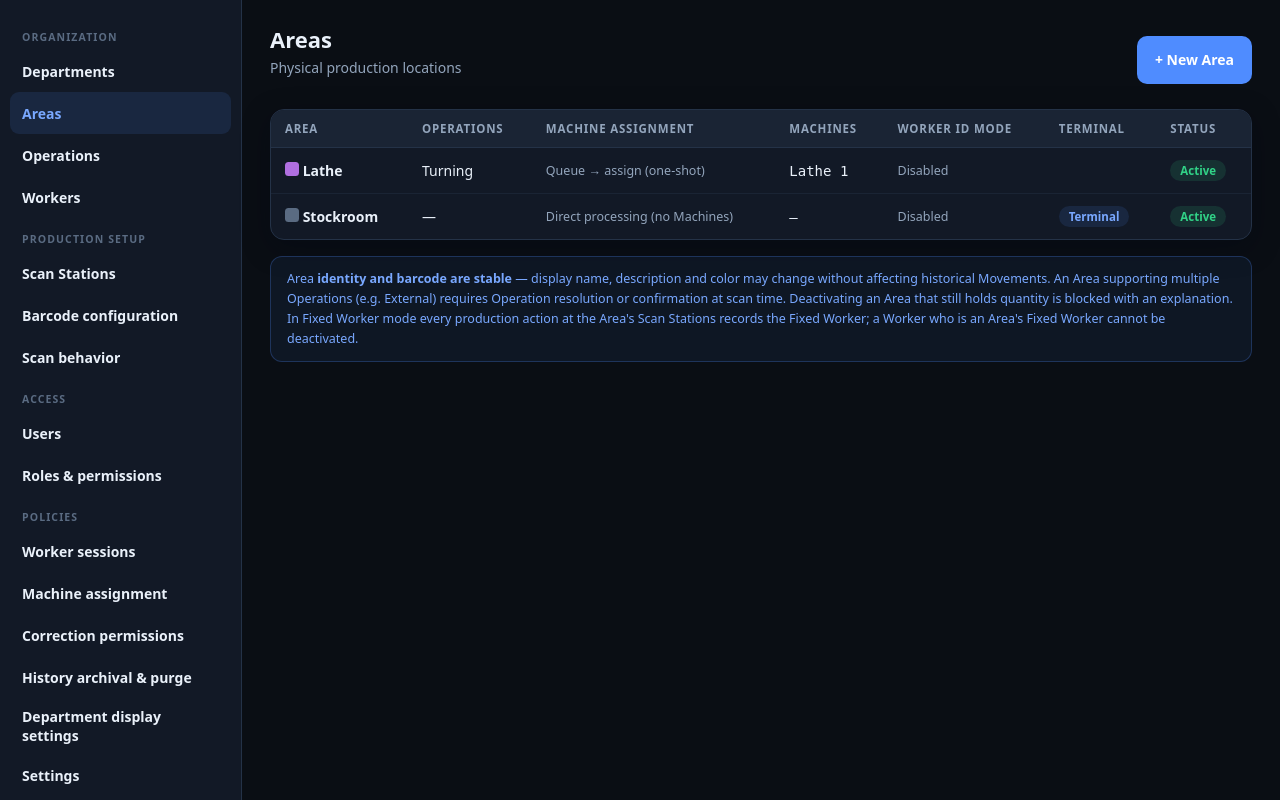
Test: editing an Area shows its stable identity and saves through the API
This screenshot has width=1280, height=800.
Click the button with aria-label "Edit Lathe".
click(340, 170)  # box top-left (285, 161), bottom-right (394, 180)
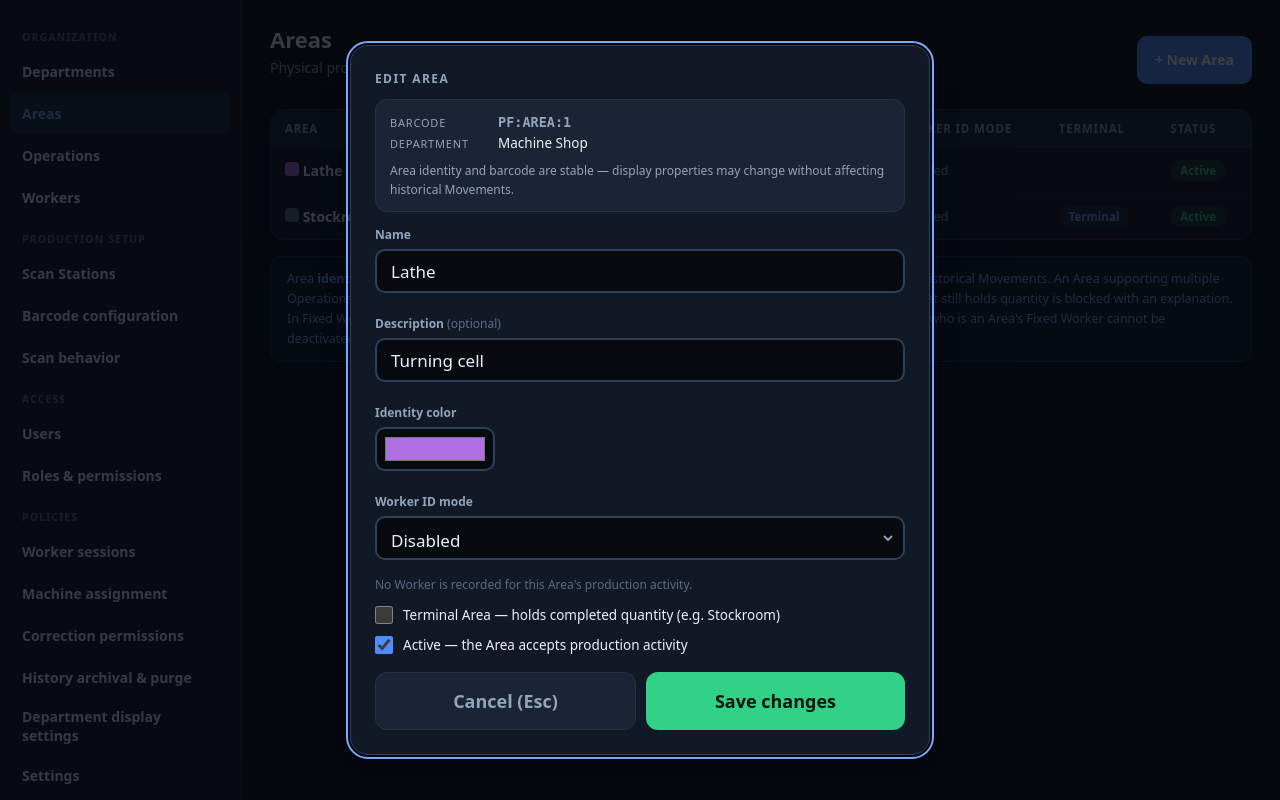
Expected: the dialog "Edit Area" shows "PF:AREA:1", top-left (498, 114), bottom-right (571, 130)
Expected: the dialog "Edit Area" shows "Area identity and barcode are stable", top-left (390, 162), bottom-right (884, 198)
Replace the text in the field labelled "Name" with "Lathe Cell" at (640, 271), box top-left (375, 249), bottom-right (905, 293)
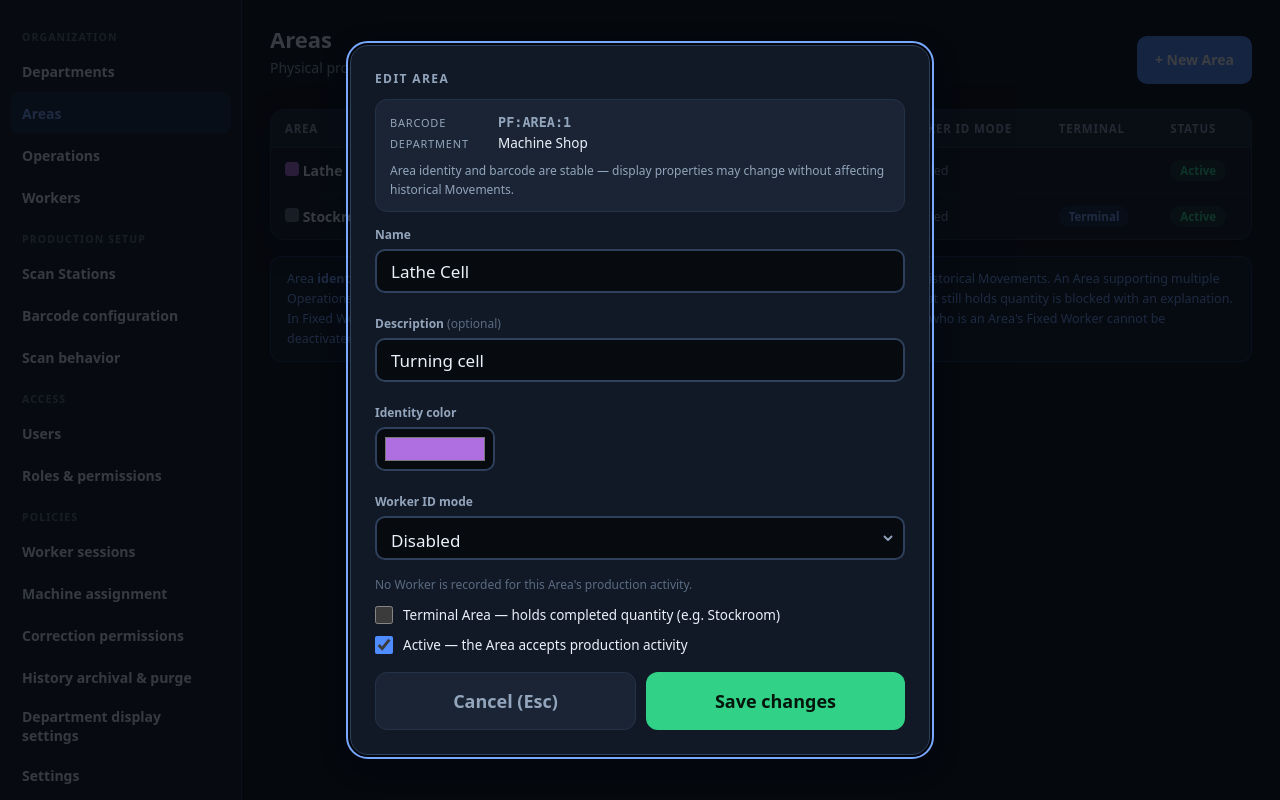
Click the button "Save changes".
click(776, 701)  # box top-left (646, 672), bottom-right (905, 730)
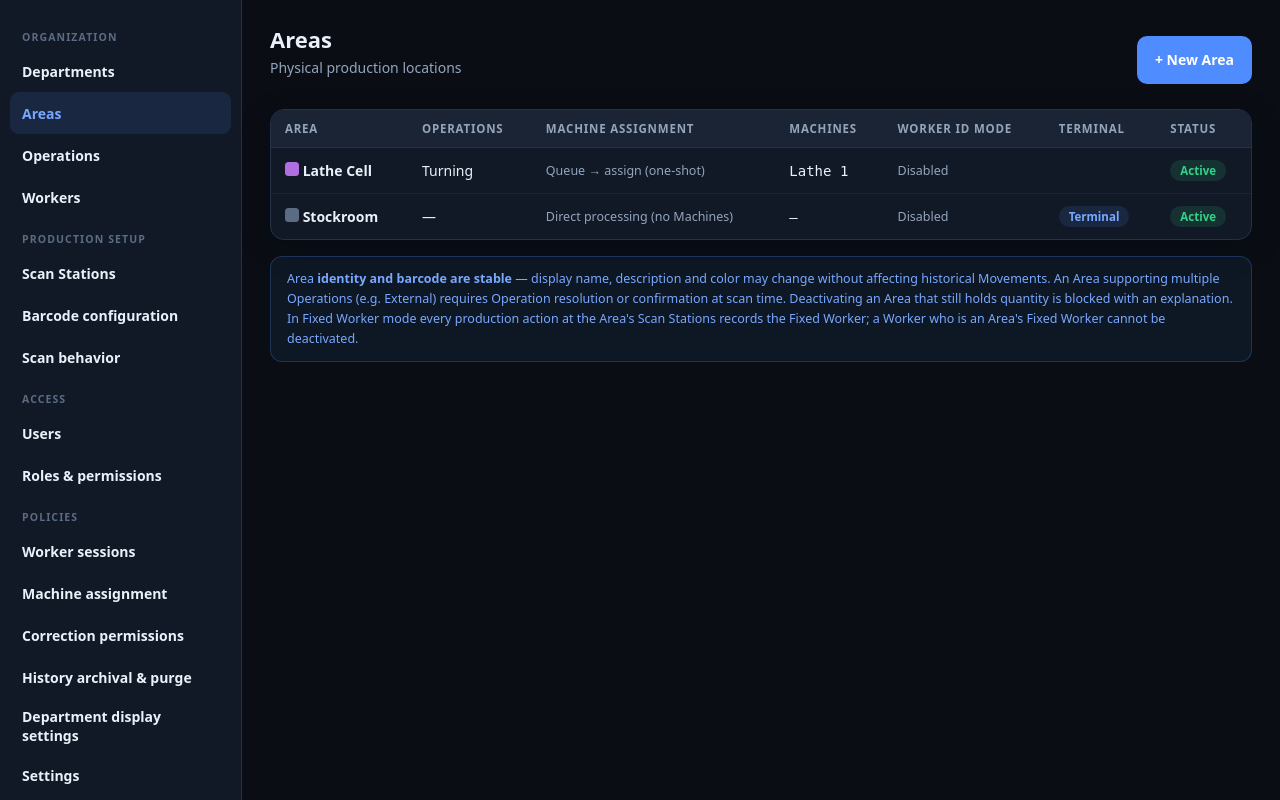
Expected: the dialog is gone
Expected: the button with aria-label "Edit Lathe Cell" is shown, top-left (285, 161), bottom-right (394, 180)
